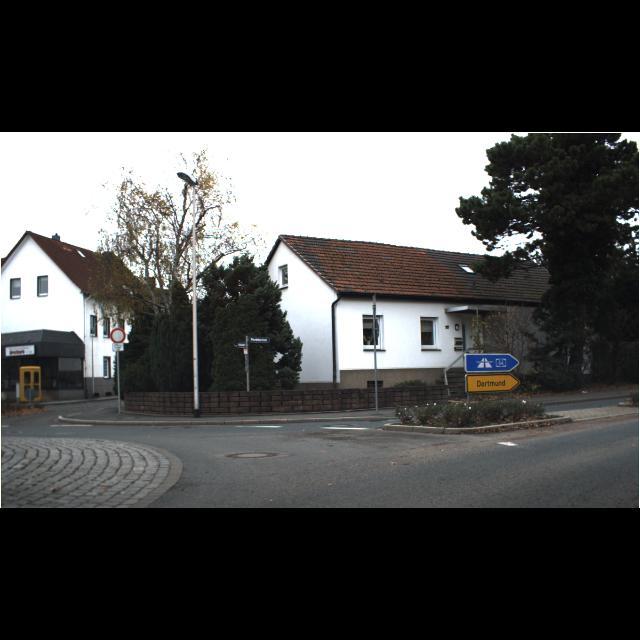prohibitory: (109, 328, 125, 344)
